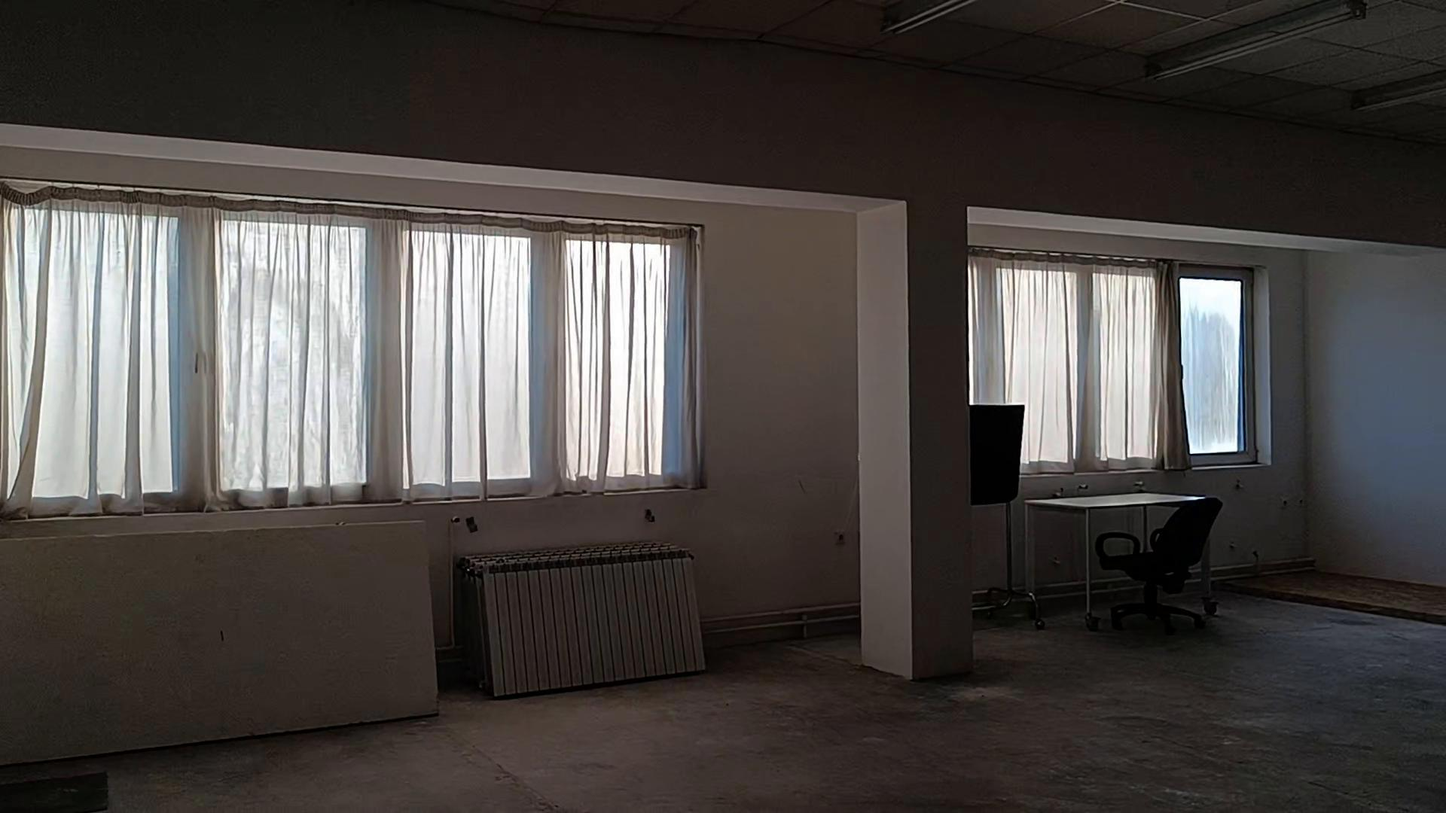ceiling: (485, 1, 1442, 138)
floor: (5, 595, 1445, 812)
wall: (10, 8, 1445, 616), (46, 5, 1438, 152), (856, 201, 972, 679)
